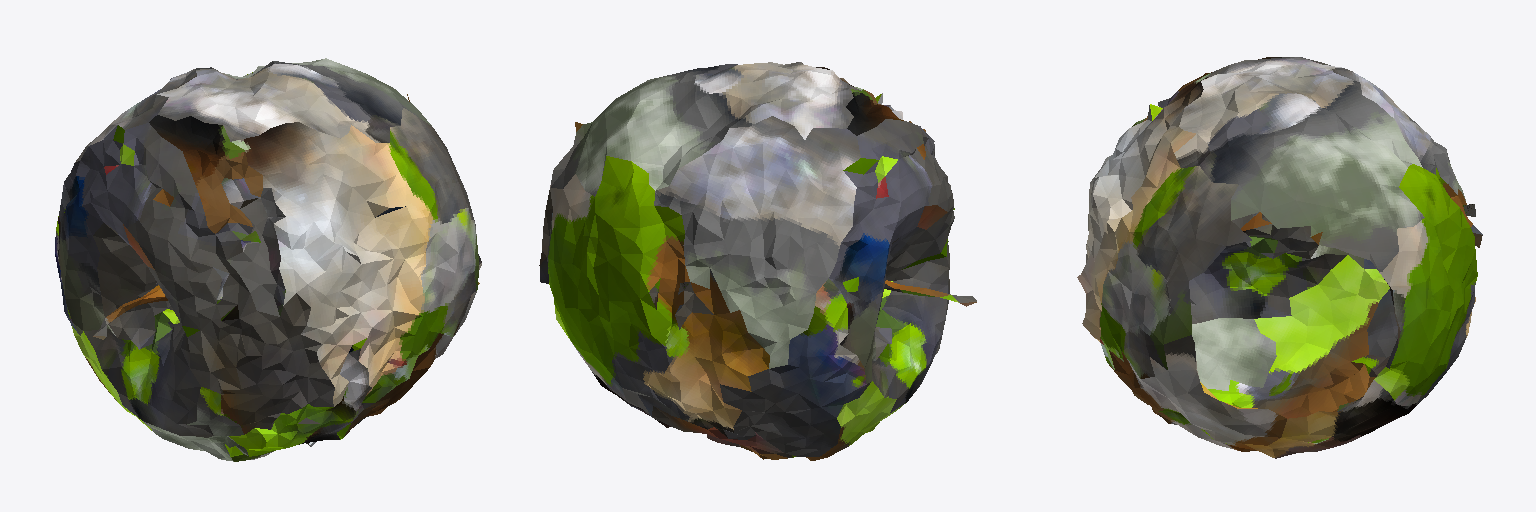
3 views of the same model, side by side, from view 1: azimuth 30°, elevation 25°; view 2: azimuth 150°, elevation 25°; view 3: azimuth 270°, elevation 25° (orthographic).
Visible parts, largest first — view 1: mesh; view 2: mesh; view 3: mesh.
Boxes of the visible parts, x1=… form: mesh: x1=55, y1=58, x2=481, y2=461; mesh: x1=539, y1=62, x2=976, y2=460; mesh: x1=1077, y1=57, x2=1482, y2=458.
Size of the model in its own units: 0.0909 by 0.0817 by 0.0855.
1 materials, 1 textured.